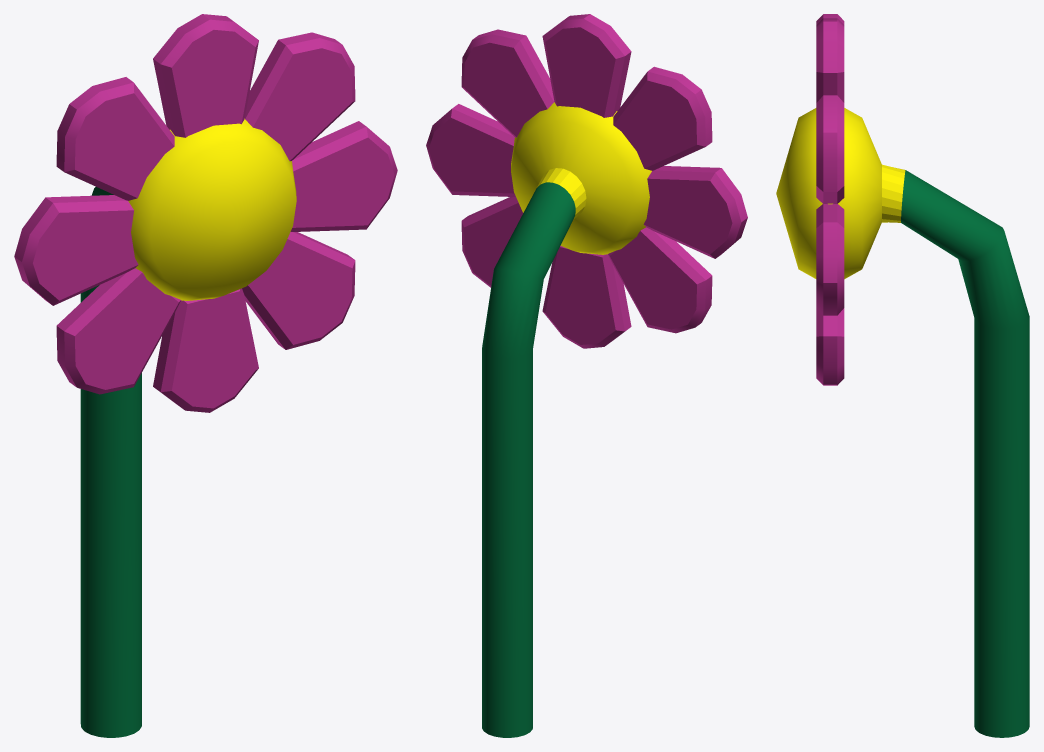
File: Flower0.obj
3 views of the same model, side by side, from view 1: azimuth 30°, elevation 25°; view 2: azimuth 150°, elevation 25°; view 3: azimuth 270°, elevation 25° (orthographic). The views are drawn at different scales.
Visible parts, largest first — view 1: Flower; view 2: Flower; view 3: Flower.
Part boxes in pixels (x1=…): Flower: x1=14, y1=14, x2=397, y2=737; Flower: x1=426, y1=14, x2=747, y2=737; Flower: x1=776, y1=14, x2=1029, y2=737.
Bounding box in the file's own units: 3.16 × 6.24 × 2.04.
Materials: 1 (1 with a texture image).
